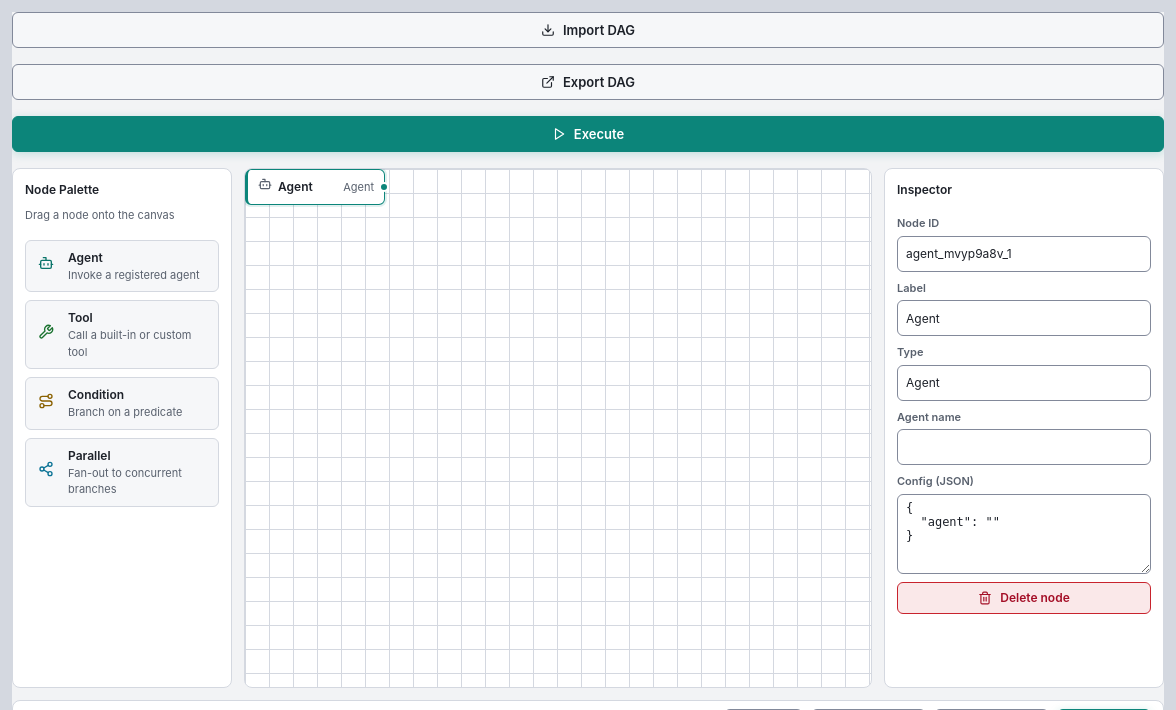
Scenario: WorkflowEditor.vue › updates node label via inspector input
Replace the text in the field with test id "wf-input-label" with "My Agent Node" at {"x": 1024, "y": 318}, box top-left (897, 300), bottom-right (1151, 336)
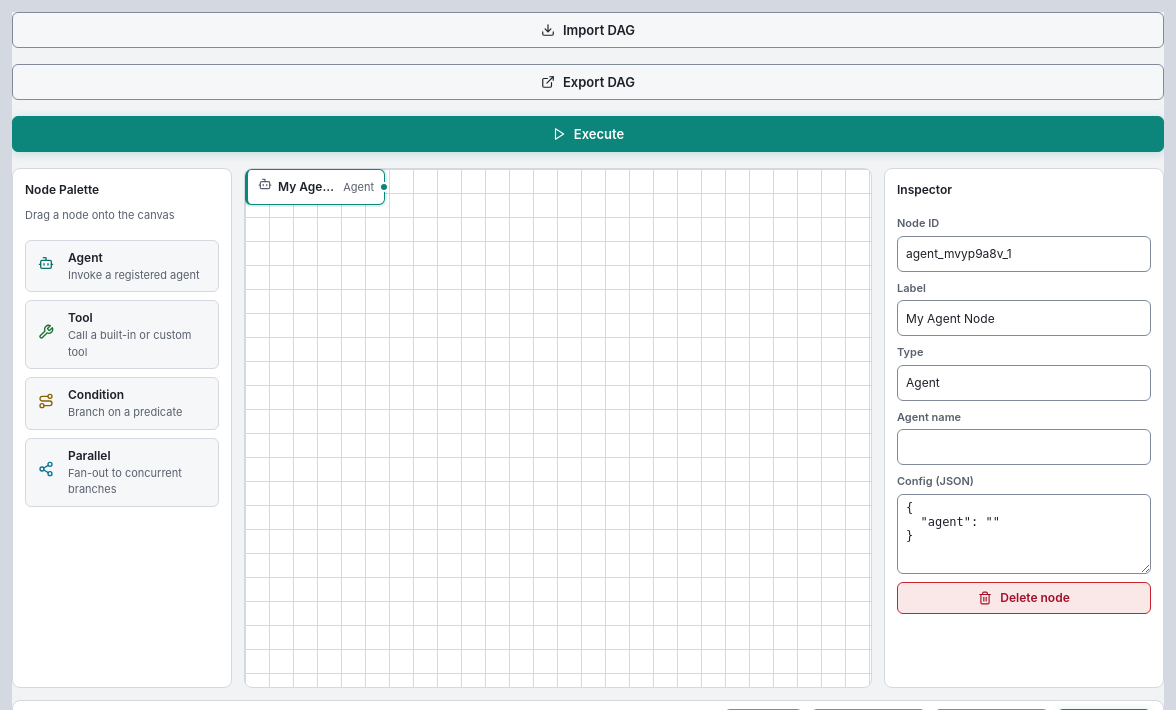
Expected: the text "My Agent Node" is shown, top-left (278, 178), bottom-right (337, 196)
